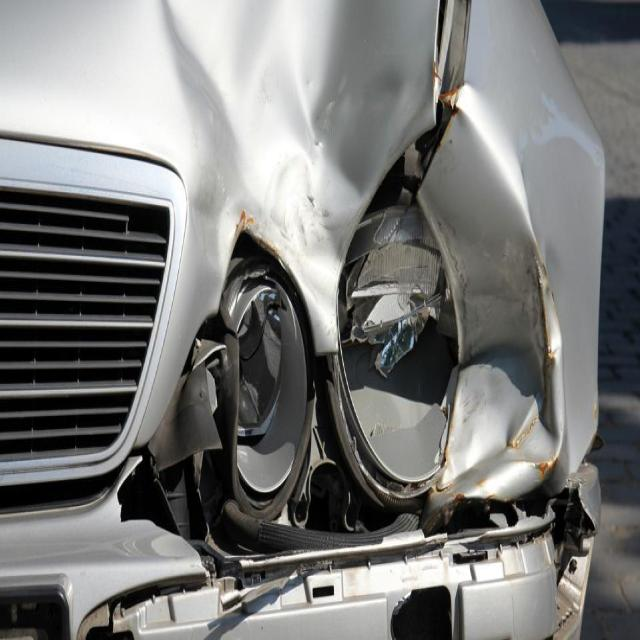crush: (72, 0, 605, 640)
